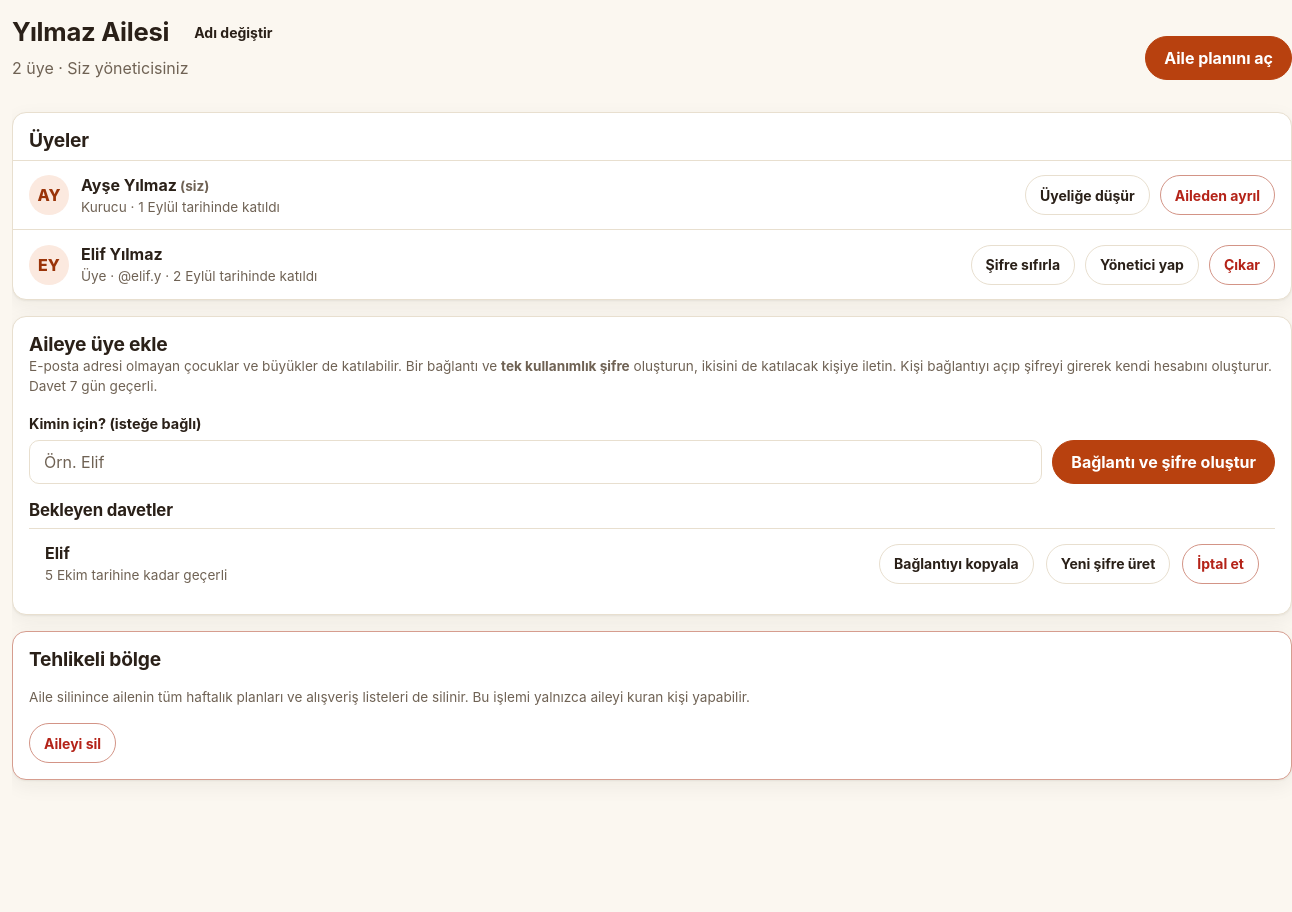
Test case: FamilyDetailPage: roller ve görünürlük › silme onayından vazgeçilirse hiçbir şey silinmez
Click the button "Aileyi sil": (73, 743) [29,723,116,763]
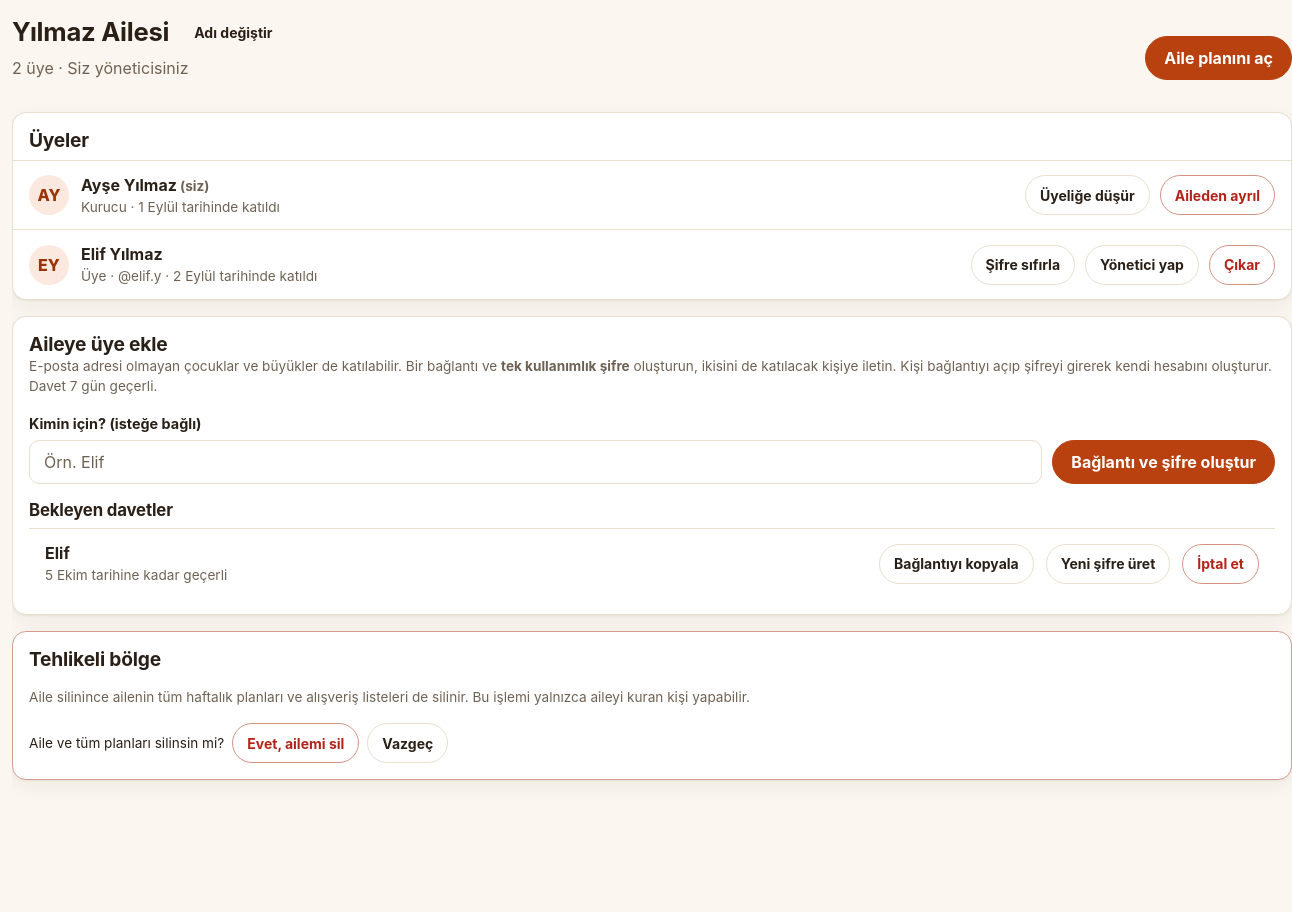
Click the button "Vazgeç": (408, 743) [367,723,448,763]
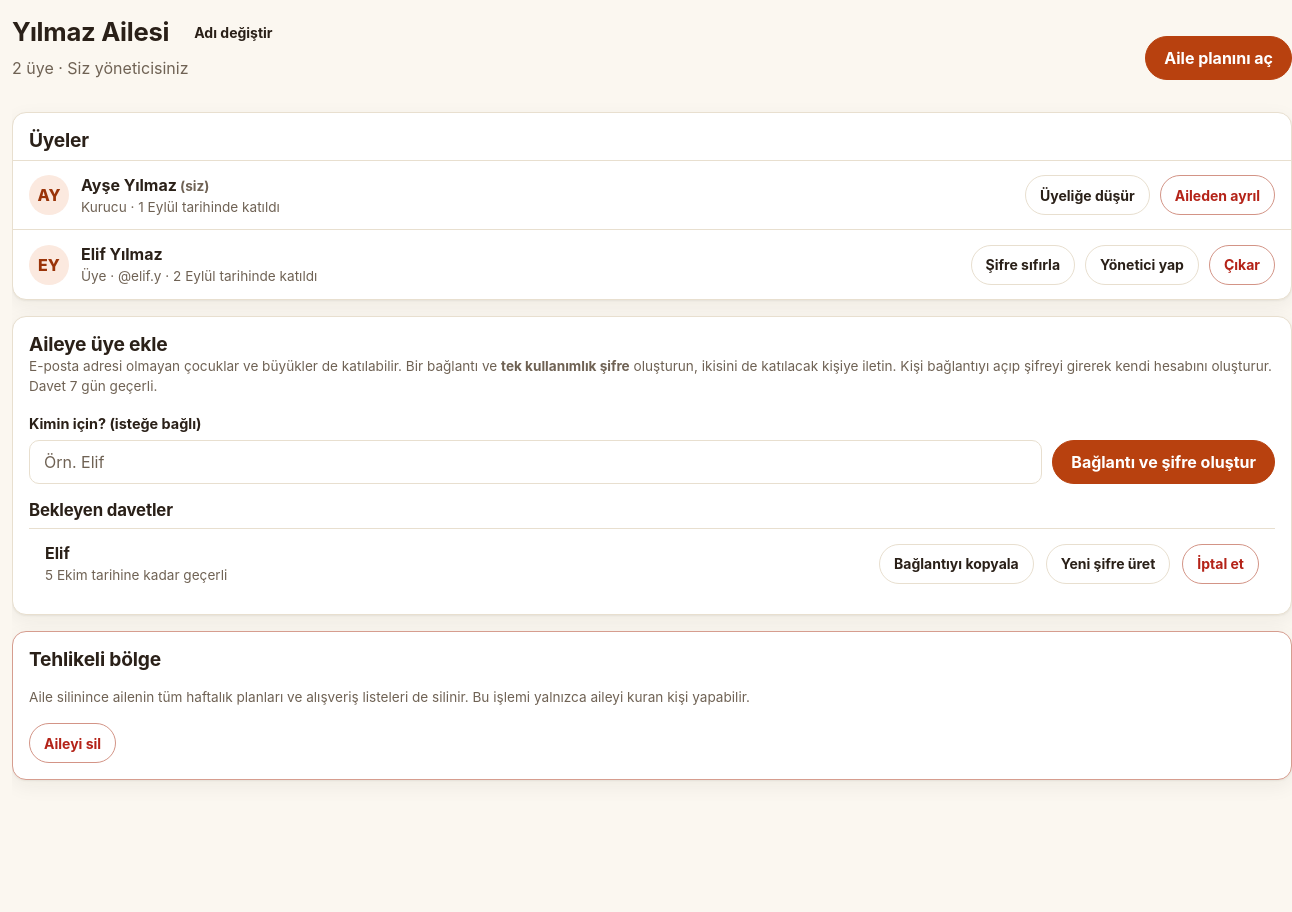
Expected: the button "Aileyi sil" is shown, [29,723,116,763]
